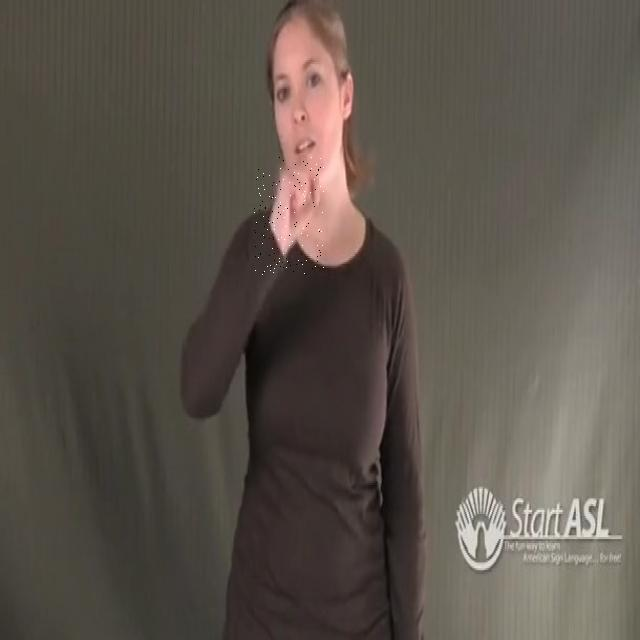icecream: (254, 156, 324, 276)
